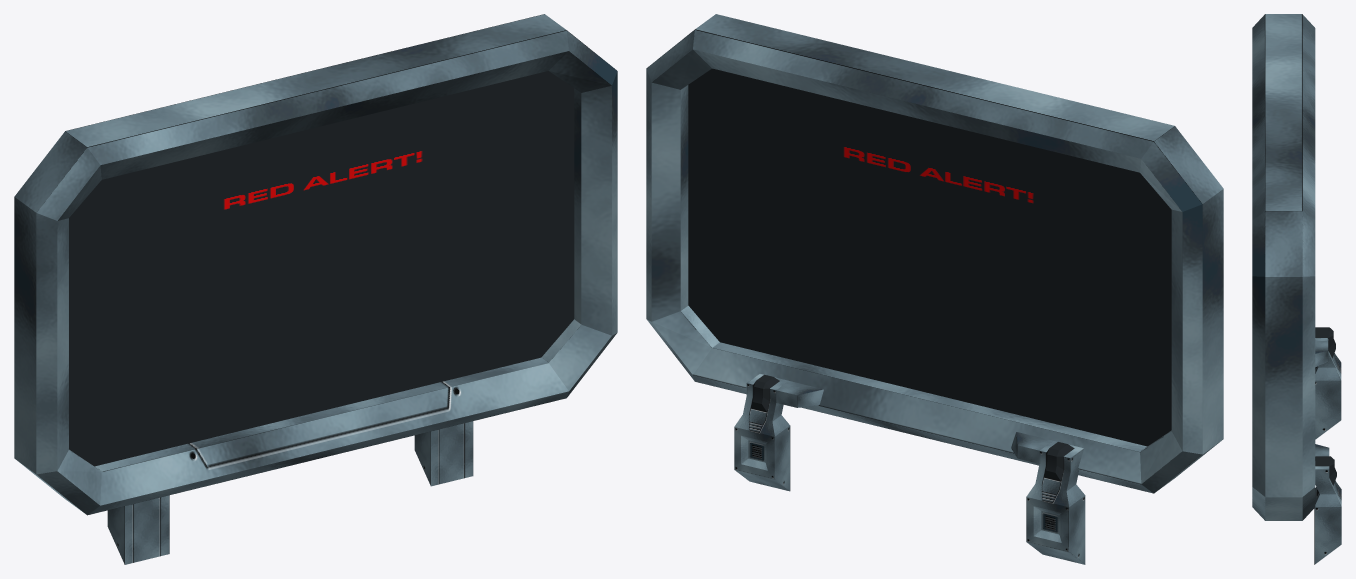
Rendered from monitor.FBX.
3 renders of one model, left to right at view 1: azimuth 30°, elevation 25°; view 2: azimuth 150°, elevation 25°; view 3: azimuth 270°, elevation 25°, orthographic. The views are drawn at different scales.
Parts seen in each view (by area): view 1: monitor_screen, monitor_frame; view 2: monitor_screen, monitor_frame; view 3: monitor_frame.
Boxes of the visible parts, x1,y1,x2,y2 form: monitor_screen: (69,71,574,466); monitor_frame: (14,14,617,564); monitor_screen: (688,68,1171,446); monitor_frame: (646,14,1223,564); monitor_frame: (1252,14,1341,564).
Bounding box in the file's own units: 22046 × 16462 × 3489.
